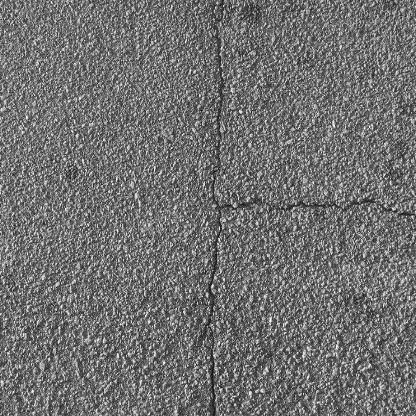Cracks: (204, 0, 229, 416), (232, 197, 416, 224)
